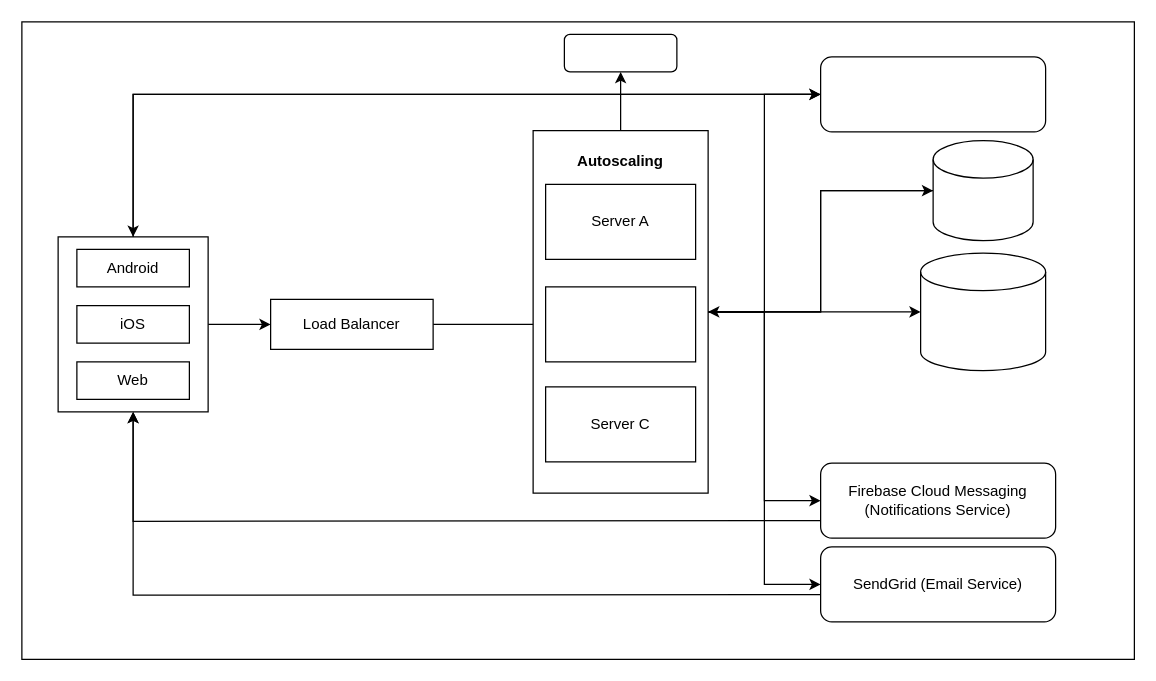
Image size: 1156x681. Some labels were removed from this diagram. Here are the shapes that lost their labels. From the top down, the centre of each, then its label:
the point at 620,52: Sentry
the point at 932,94: Media (Google cloud Storage)
the point at 982,190: Redis
the point at 620,324: Server B
the point at 982,311: MongoDB
